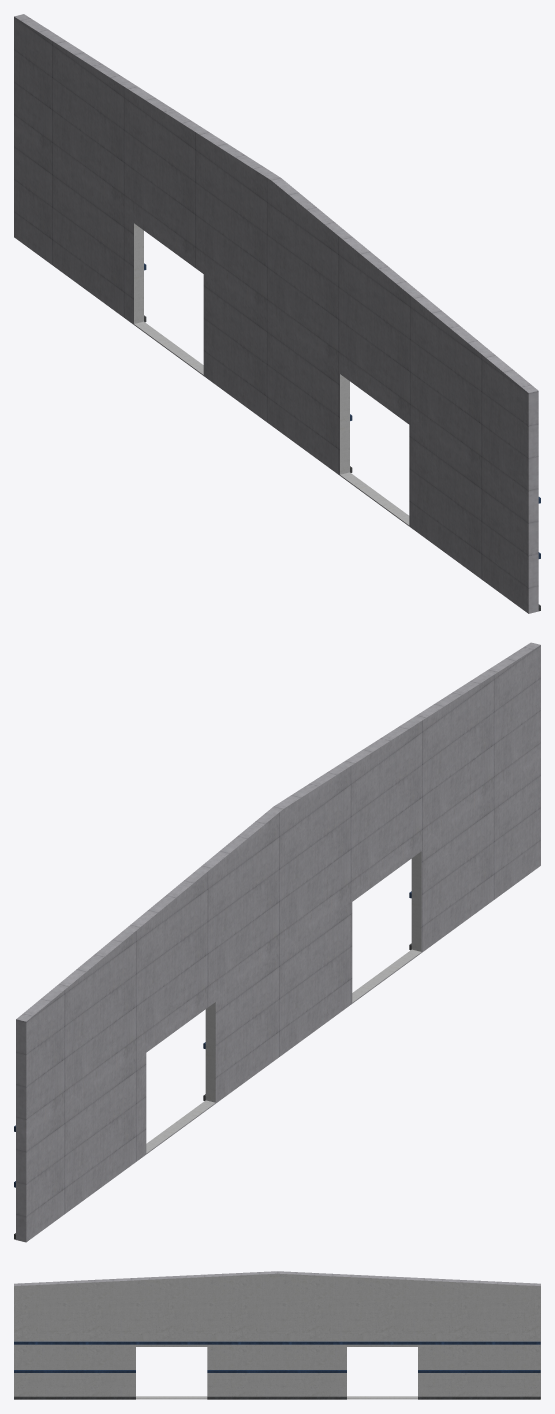
File: WareFront_Walls_Door.FBX
The picture shows the model from 3 angles, top to bottom: view 1: azimuth 30°, elevation 25°; view 2: azimuth 150°, elevation 25°; view 3: azimuth 270°, elevation 25°; orthographic projection. The views are drawn at different scales.
Parts seen in each view (by area): view 1: WareFront_Walls_Door; view 2: WareFront_Walls_Door; view 3: WareFront_Walls_Door, WareFront_Metal, Object001, Object002.
Boxes of the visible parts, x1,y1,x2,y2 form: WareFront_Walls_Door: [14, 14, 538, 613]; WareFront_Walls_Door: [16, 642, 540, 1242]; WareFront_Walls_Door: [14, 1271, 540, 1399]; WareFront_Metal: [14, 1341, 540, 1344]; Object001: [14, 1396, 540, 1399]; Object002: [14, 1370, 540, 1372].
Bounding box in the file's own units: 20.33 × 383 × 1457.
